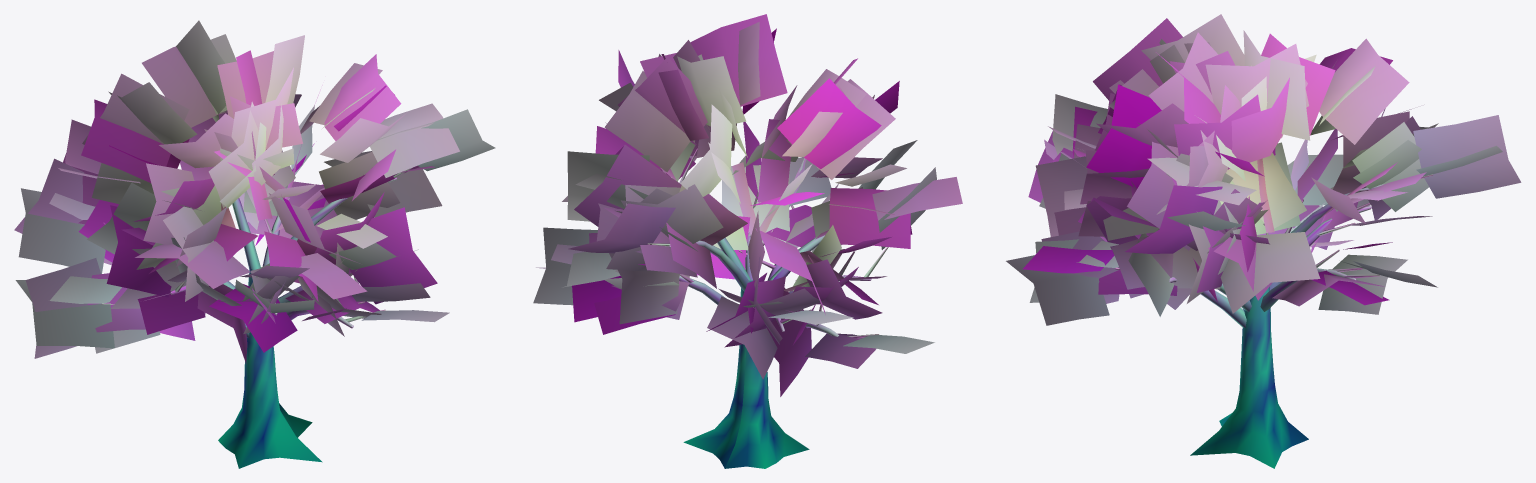
Rendered from zauberbaum.glb.
3 renders of one model, left to right at view 1: azimuth 30°, elevation 25°; view 2: azimuth 150°, elevation 25°; view 3: azimuth 270°, elevation 25°, orthographic. The views are drawn at different scales.
Visible parts, largest first — view 1: zauberbaum_lod0; view 2: zauberbaum_lod0; view 3: zauberbaum_lod0.
Boxes of the visible parts, x1,y1,x2,y2 form: zauberbaum_lod0: [14, 20, 495, 468]; zauberbaum_lod0: [533, 14, 962, 468]; zauberbaum_lod0: [1006, 14, 1521, 468].
Size of what is drawn, in the model's own units: 18.99 by 17.61 by 19.95.
